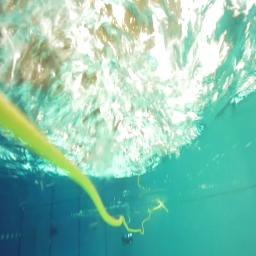Full: (121, 232, 134, 246)
